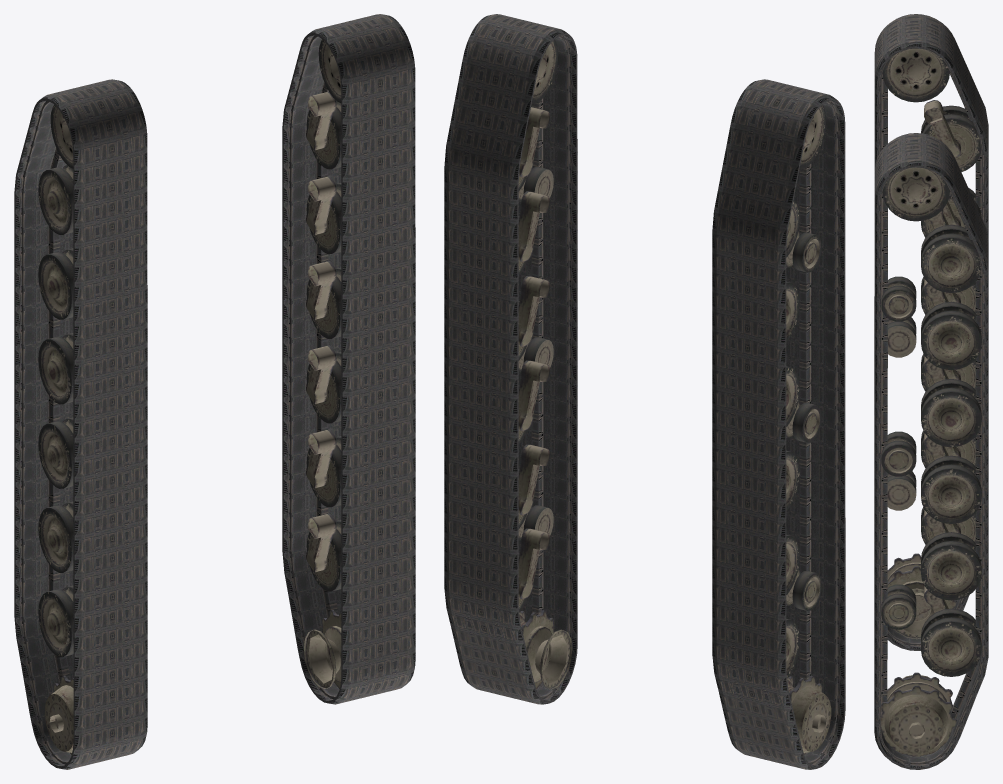
File: Chassis.glb
The picture shows the model from 3 angles, left to right: view 1: azimuth 30°, elevation 25°; view 2: azimuth 150°, elevation 25°; view 3: azimuth 270°, elevation 25°; orthographic projection. The views are drawn at different scales.
Parts seen in each view (by area): view 1: set_1_group_0, set_0_group_0, set_3_group_0, set_2_group_0; view 2: set_1_group_0, set_0_group_0, set_3_group_0, set_2_group_0; view 3: set_3_group_0, set_0_group_0, set_2_group_0, set_1_group_0.
Part boxes in pixels (left/top/right/bottom): set_1_group_0: left=14, top=79, right=147, bottom=769; set_0_group_0: left=282, top=14, right=415, bottom=704; set_3_group_0: left=304, top=39, right=341, bottom=688; set_2_group_0: left=38, top=105, right=73, bottom=754; set_1_group_0: left=712, top=79, right=845, bottom=769; set_0_group_0: left=444, top=14, right=577, bottom=704; set_3_group_0: left=518, top=39, right=572, bottom=689; set_2_group_0: left=786, top=105, right=831, bottom=754; set_3_group_0: left=881, top=167, right=981, bottom=756; set_0_group_0: left=874, top=133, right=988, bottom=769; set_2_group_0: left=882, top=48, right=981, bottom=639; set_1_group_0: left=874, top=14, right=988, bottom=650.
Size of the model in its own units: 3.22 by 6.04 by 1.03.
Materials: 4 (4 with a texture image).
